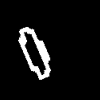chain: (18, 27, 50, 79)
